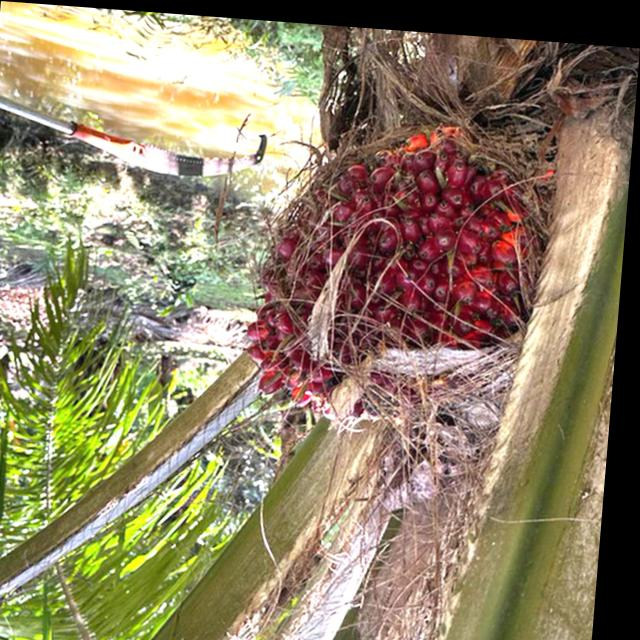ripe: (229, 97, 563, 448)
